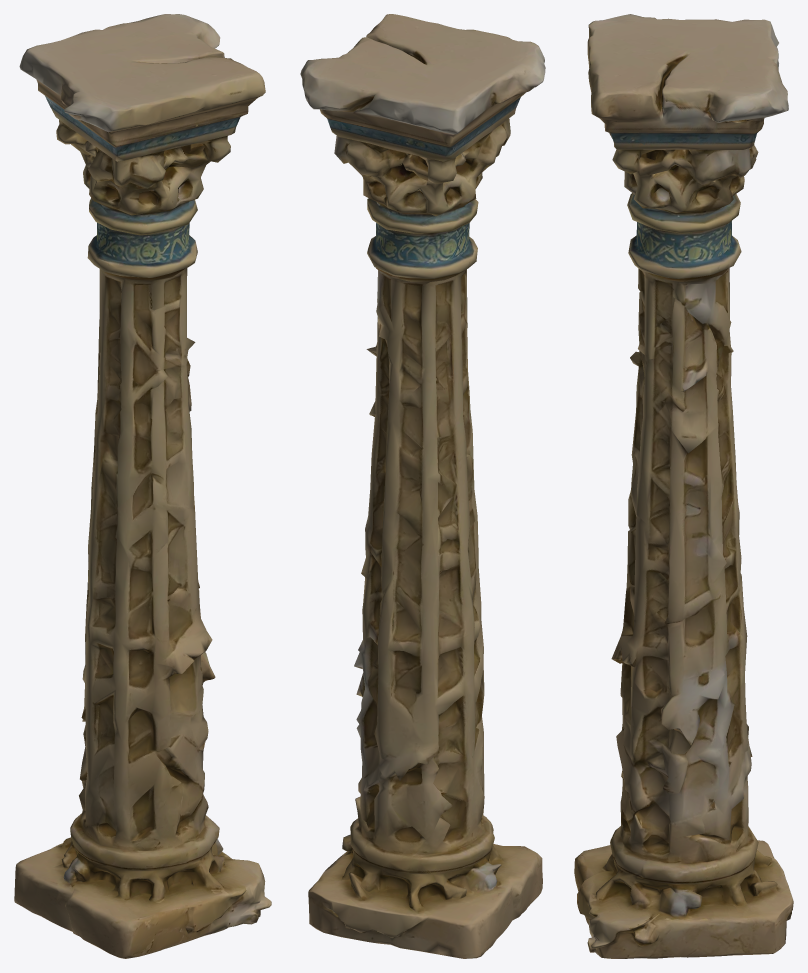
File: ramp_pillar.glb
3 views of the same model, side by side, from view 1: azimuth 30°, elevation 25°; view 2: azimuth 150°, elevation 25°; view 3: azimuth 270°, elevation 25° (orthographic). The views are drawn at different scales.
Parts seen in each view (by area): view 1: tripo_node_9d21e630-e663-48ba-b903-179974ddd390; view 2: tripo_node_9d21e630-e663-48ba-b903-179974ddd390; view 3: tripo_node_9d21e630-e663-48ba-b903-179974ddd390.
Part boxes in pixels (bbox=[...]): tripo_node_9d21e630-e663-48ba-b903-179974ddd390: bbox=[14, 14, 271, 958]; tripo_node_9d21e630-e663-48ba-b903-179974ddd390: bbox=[300, 14, 545, 958]; tripo_node_9d21e630-e663-48ba-b903-179974ddd390: bbox=[574, 14, 793, 958].
Size of the model in its own units: 0.243 by 1 by 0.2301.
1 material, 1 textured.
